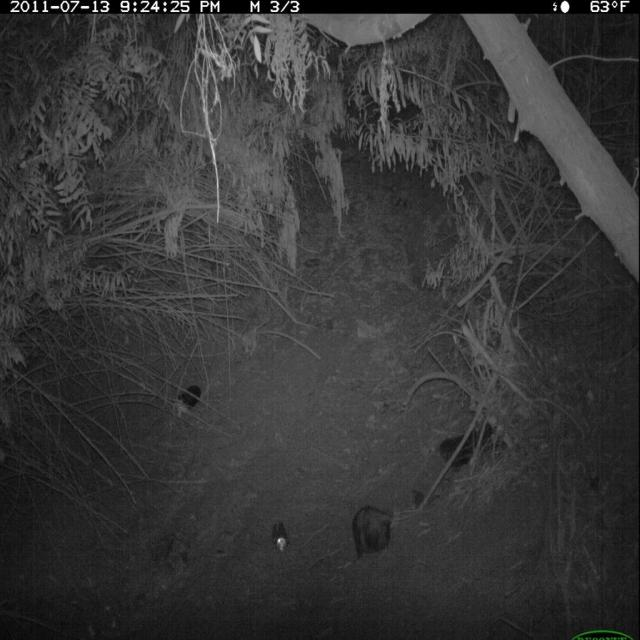opossum: (349, 491, 405, 561)
